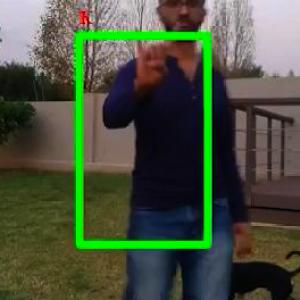takeoff-hand: (128, 22, 182, 84)
